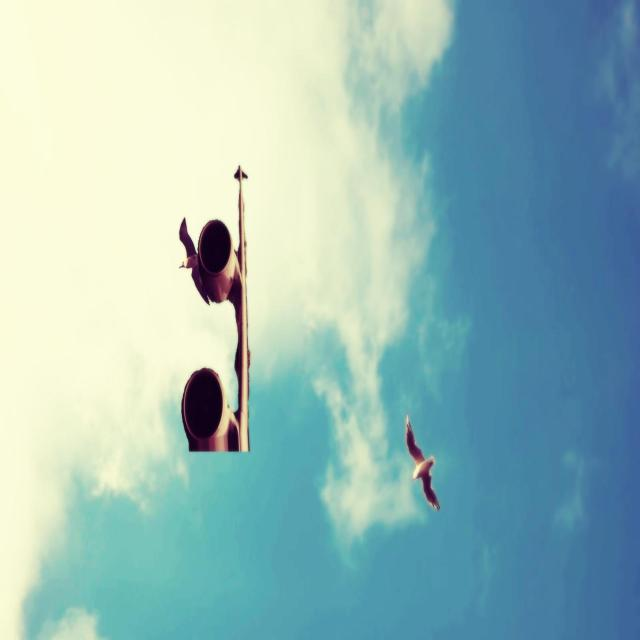airplane: (178, 164, 250, 452)
